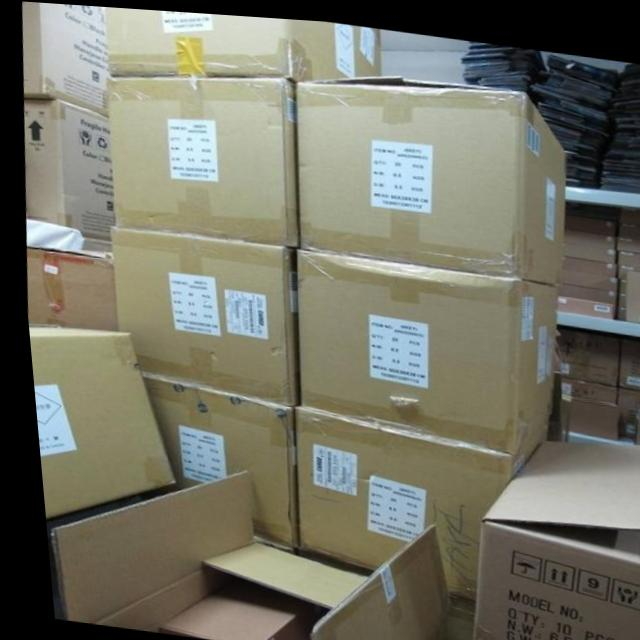box: (40, 467, 440, 640), (294, 72, 564, 278), (294, 245, 553, 448), (287, 402, 505, 593), (460, 434, 640, 640), (105, 72, 291, 244), (106, 226, 287, 401), (25, 326, 167, 520), (133, 371, 288, 543), (105, 6, 378, 74), (552, 365, 613, 431), (552, 320, 616, 377), (611, 381, 640, 438), (553, 260, 614, 286), (612, 333, 640, 384), (554, 244, 611, 269), (559, 207, 614, 230), (558, 231, 609, 254), (550, 289, 608, 308), (620, 261, 640, 315), (612, 242, 640, 262)
